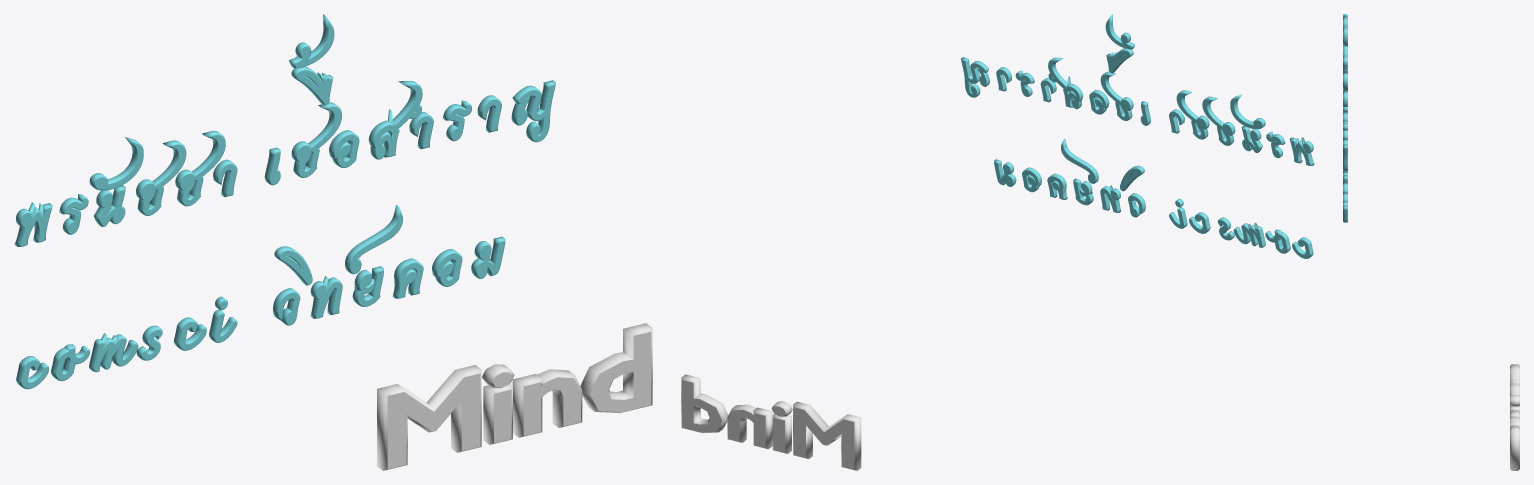
The picture shows the model from 3 angles, left to right: view 1: azimuth 30°, elevation 25°; view 2: azimuth 150°, elevation 25°; view 3: azimuth 270°, elevation 25°; orthographic projection. The views are drawn at different scales.
Visible parts, largest first — view 1: Text, mind; view 2: Text, mind; view 3: mind, Text.
Boxes of the visible parts, left/top/right/bottom form: Text: left=14, top=14, right=555, bottom=389; mind: left=377, top=323, right=652, bottom=470; Text: left=961, top=14, right=1314, bottom=258; mind: left=681, top=374, right=861, bottom=470; mind: left=1510, top=364, right=1519, bottom=470; Text: left=1343, top=14, right=1347, bottom=222.
Size of the model in its own units: 5.81 by 4.37 by 2.18.
